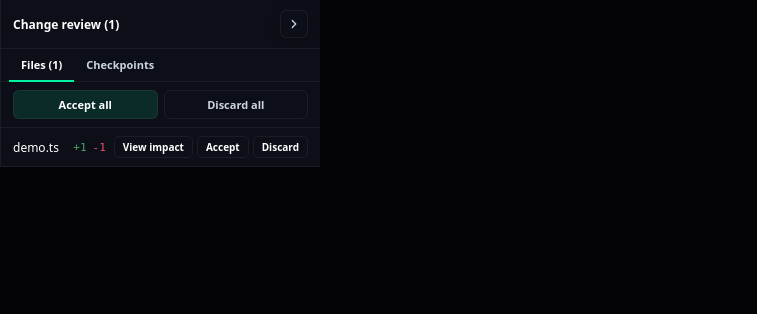
Test case: ChangeReviewPanel › loads blast radius into the impact preview when clicking view impact
What coordinates should you click on to do the following:
click the button with test id "review-view-impact"
I would click on:
 (153, 147)
Its box is [114,136,193,158].
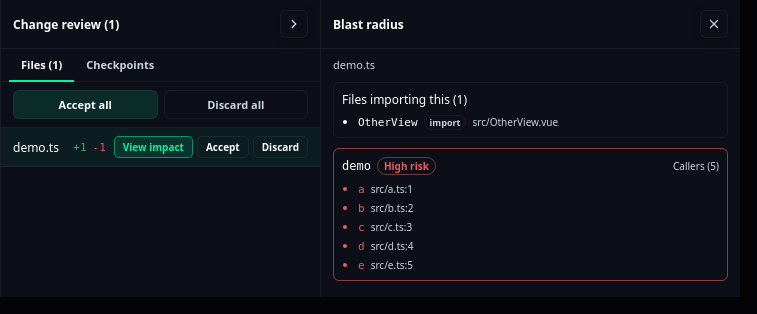
Expected: the element with test id "change-review-impact" is shown, [320,0,740,297]
Expected: the element with test id "blast-radius-panel" is shown, [321,49,740,297]
Expected: the text "High risk" is shown, [377,157,436,175]
